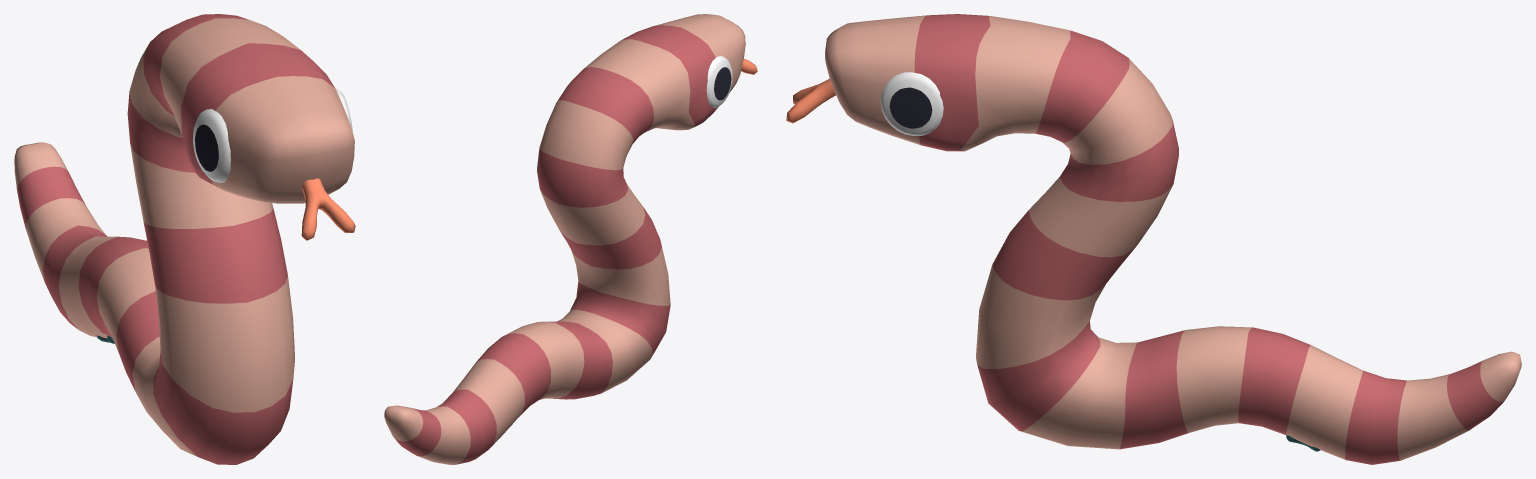
The model's file is Python.glb.
3 views of the same model, side by side, from view 1: azimuth 30°, elevation 25°; view 2: azimuth 150°, elevation 25°; view 3: azimuth 270°, elevation 25° (orthographic). The views are drawn at different scales.
Visible parts, largest first — view 1: Python; view 2: Python; view 3: Python.
Boxes of the visible parts, left/top/right/bottom form: Python: left=14, top=14, right=355, bottom=464; Python: left=384, top=14, right=757, bottom=464; Python: left=786, top=14, right=1521, bottom=464.
Size of the model in its own units: 0.7599 by 1.97 by 3.16.
Materials: 1 (1 with a texture image).
